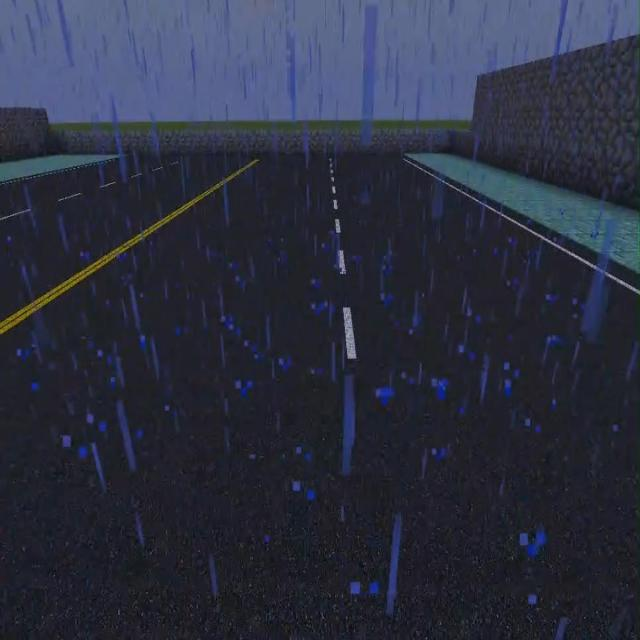crosswalk: (1, 159, 640, 640)
road: (403, 153, 639, 273), (0, 155, 125, 181)
